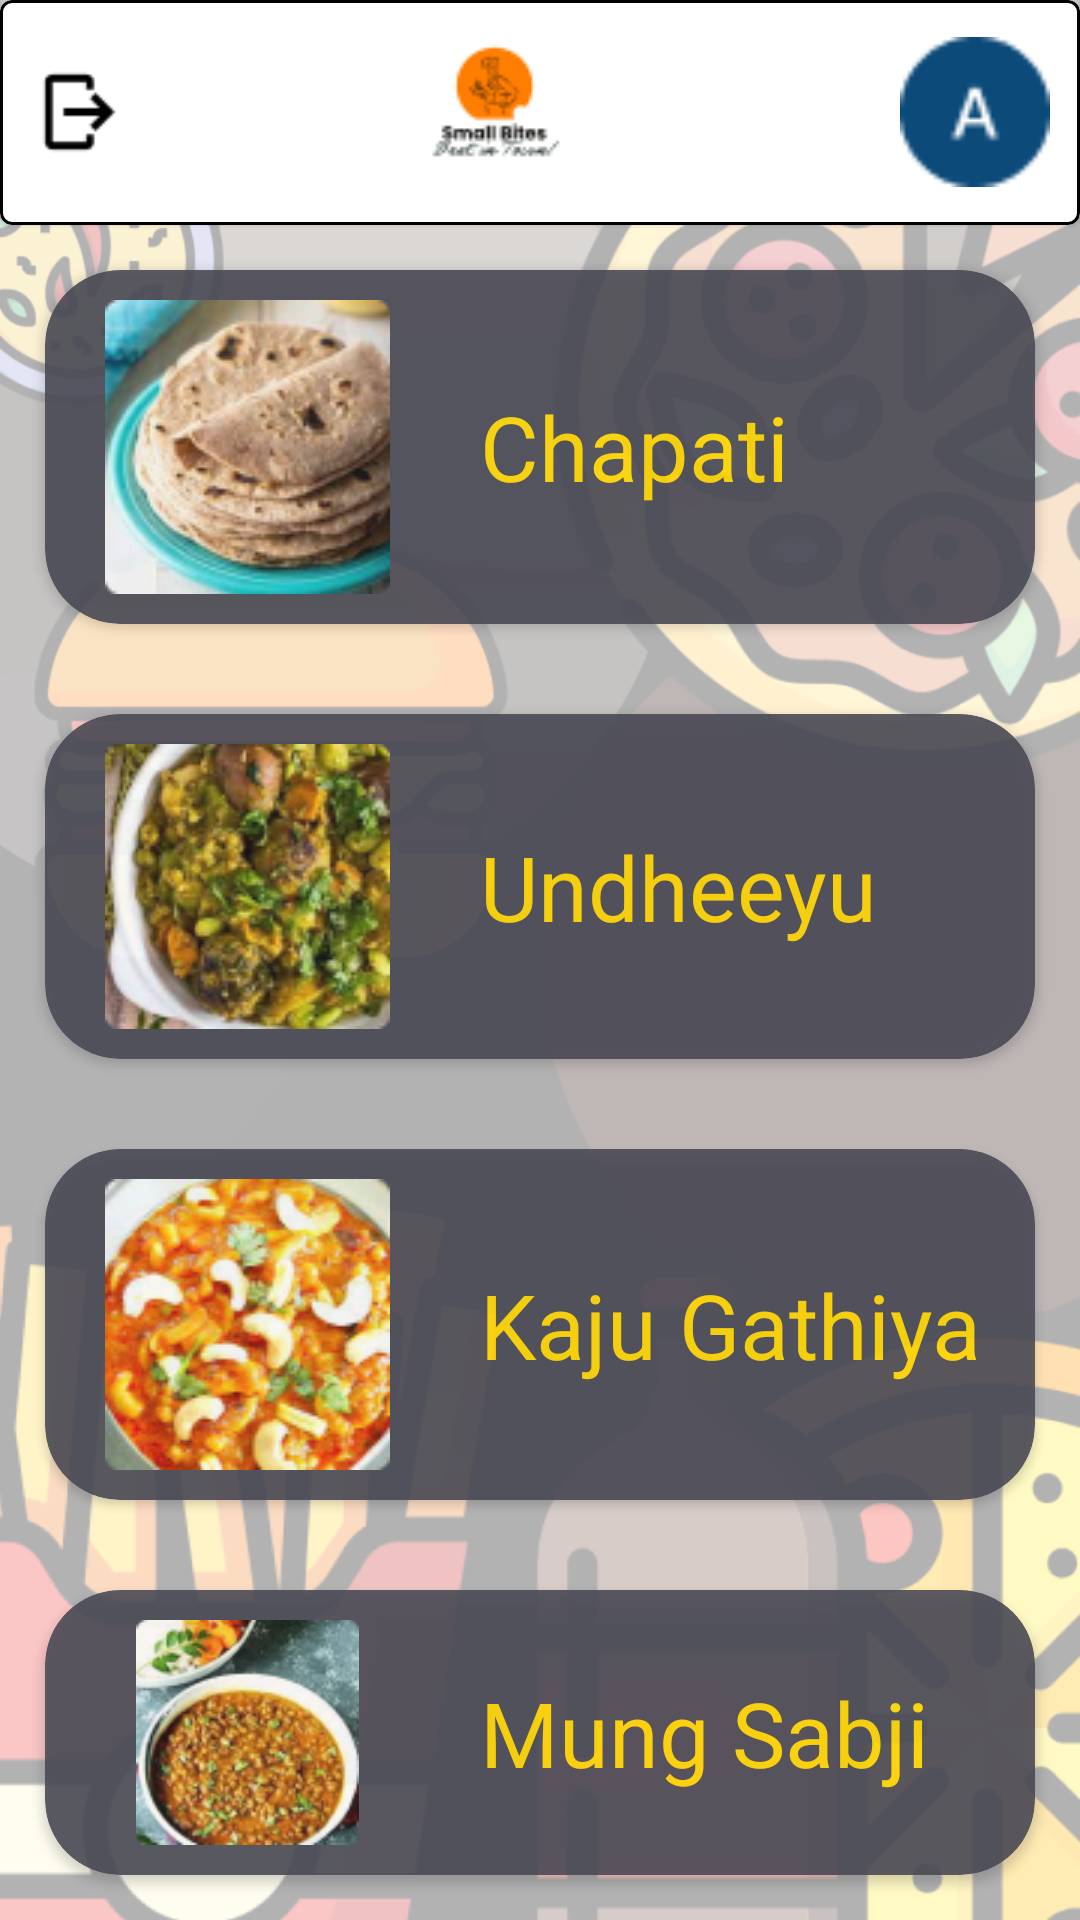

Where icons sit on this 1080w x 1920h app screen, as (x1, y1, x2, y2):
user: (900, 37, 1050, 187)
